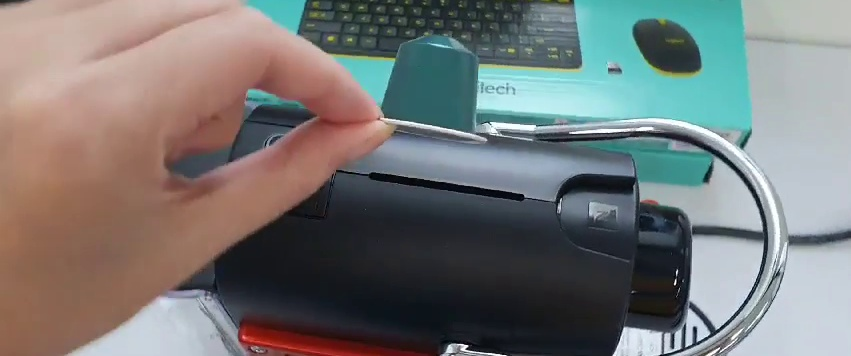capsule_13: (369, 29, 490, 147)
